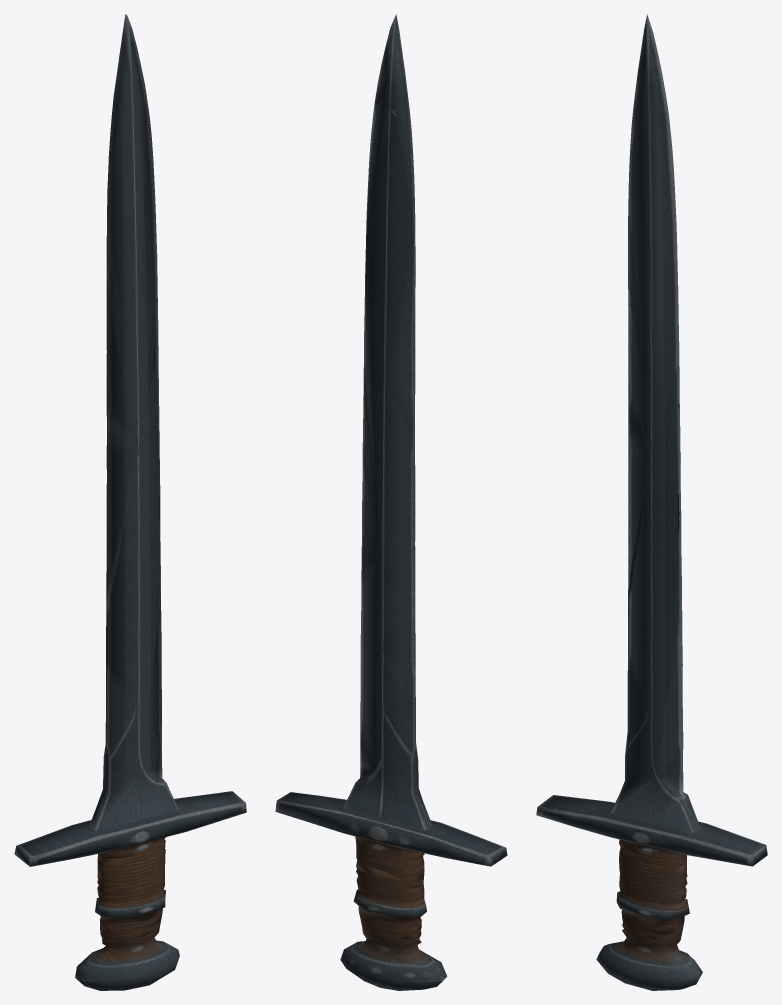
File: sword-2.glb
3 renders of one model, left to right at view 1: azimuth 30°, elevation 25°; view 2: azimuth 150°, elevation 25°; view 3: azimuth 330°, elevation 25°, orthographic.
Visible parts, largest first — view 1: Meshy_local_bake_sword-2; view 2: Meshy_local_bake_sword-2; view 3: Meshy_local_bake_sword-2.
Part boxes in pixels (left/top/right/bottom): Meshy_local_bake_sword-2: left=14, top=14, right=246, bottom=990; Meshy_local_bake_sword-2: left=275, top=14, right=507, bottom=990; Meshy_local_bake_sword-2: left=536, top=14, right=767, bottom=990.
Bounding box in the file's own units: 0.25 × 1.07 × 0.062.
1 material, 1 textured.
